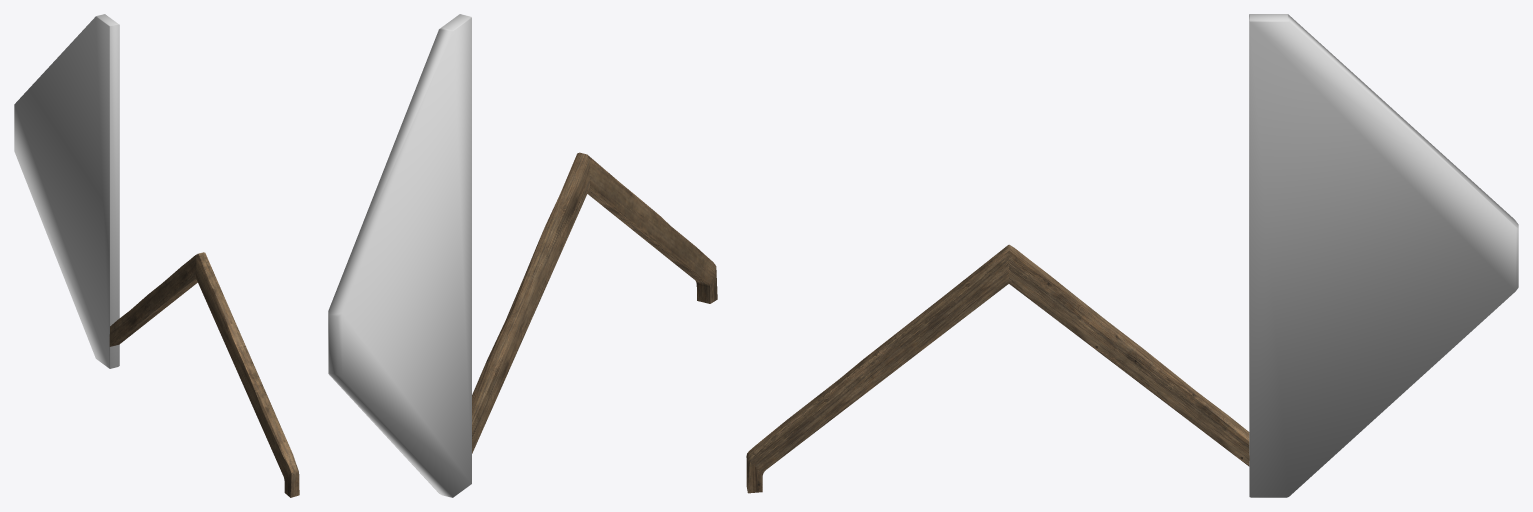
File: SM_Roof_JoinPiece_A.fbx
3 views of the same model, side by side, from view 1: azimuth 30°, elevation 25°; view 2: azimuth 150°, elevation 25°; view 3: azimuth 270°, elevation 25° (orthographic). The views are drawn at different scales.
Parts seen in each view (by area): view 1: SM_Roof_JoinPiece_A_ConvexHulls, SM_Roof_JoinPiece_A; view 2: SM_Roof_JoinPiece_A_ConvexHulls, SM_Roof_JoinPiece_A; view 3: SM_Roof_JoinPiece_A_ConvexHulls, SM_Roof_JoinPiece_A.
Part boxes in pixels (x1,y1,x2,y2): SM_Roof_JoinPiece_A_ConvexHulls: (14, 14, 119, 368); SM_Roof_JoinPiece_A: (109, 252, 299, 497); SM_Roof_JoinPiece_A_ConvexHulls: (328, 14, 471, 497); SM_Roof_JoinPiece_A: (472, 152, 717, 453); SM_Roof_JoinPiece_A_ConvexHulls: (1249, 14, 1518, 497); SM_Roof_JoinPiece_A: (746, 244, 1249, 493).
Size of the model in its own units: 0.3884 by 12.63 by 18.47.
